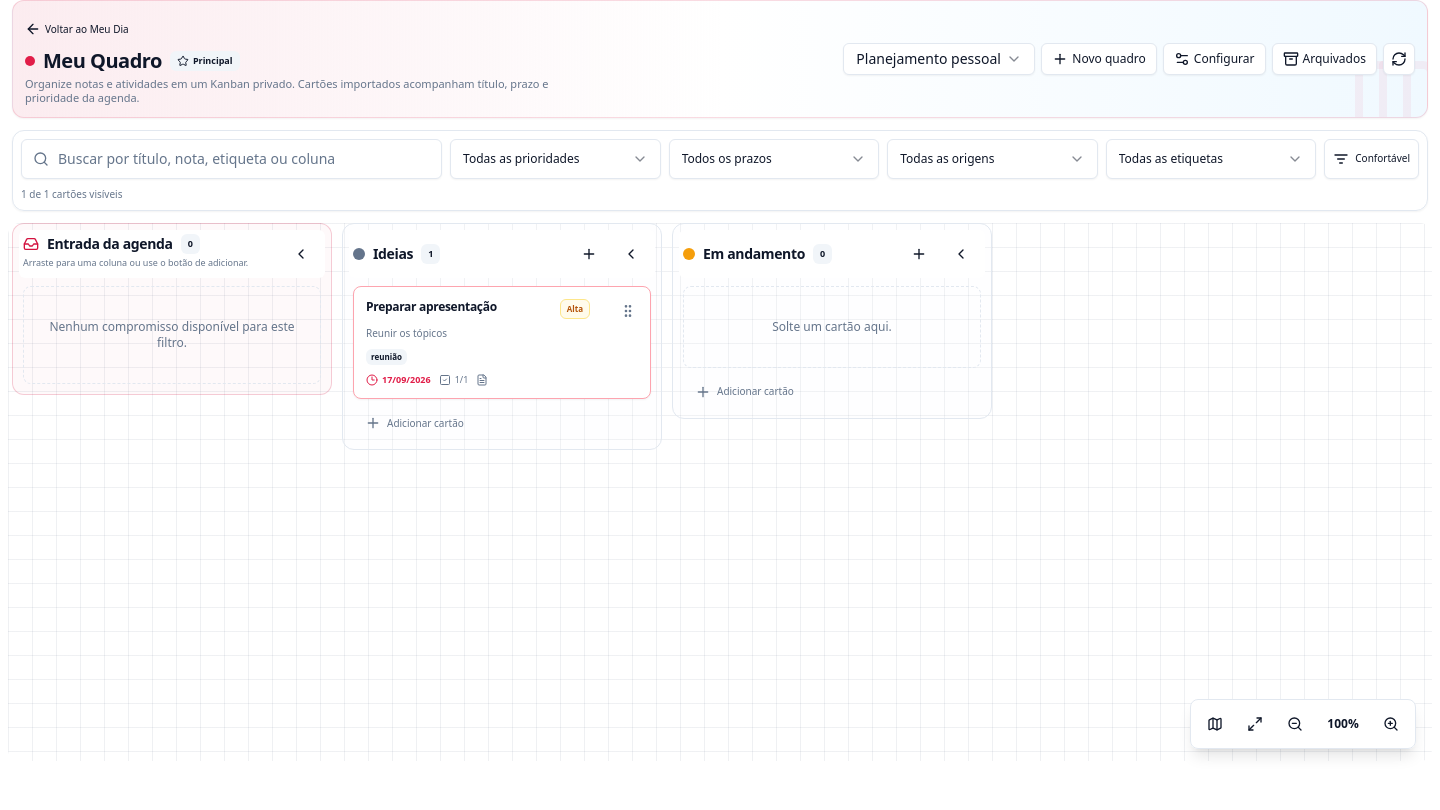
Test case: Meu Quadro › busca cartões e alterna a densidade sem perder o restante do quadro
The image size is (1440, 810).
Expected: the text "Reunir os tópicos" is shown, [366,326,447,340]
Step 1. Click the button "Confortável" → (1372, 158), box [1324,138,1419,178]
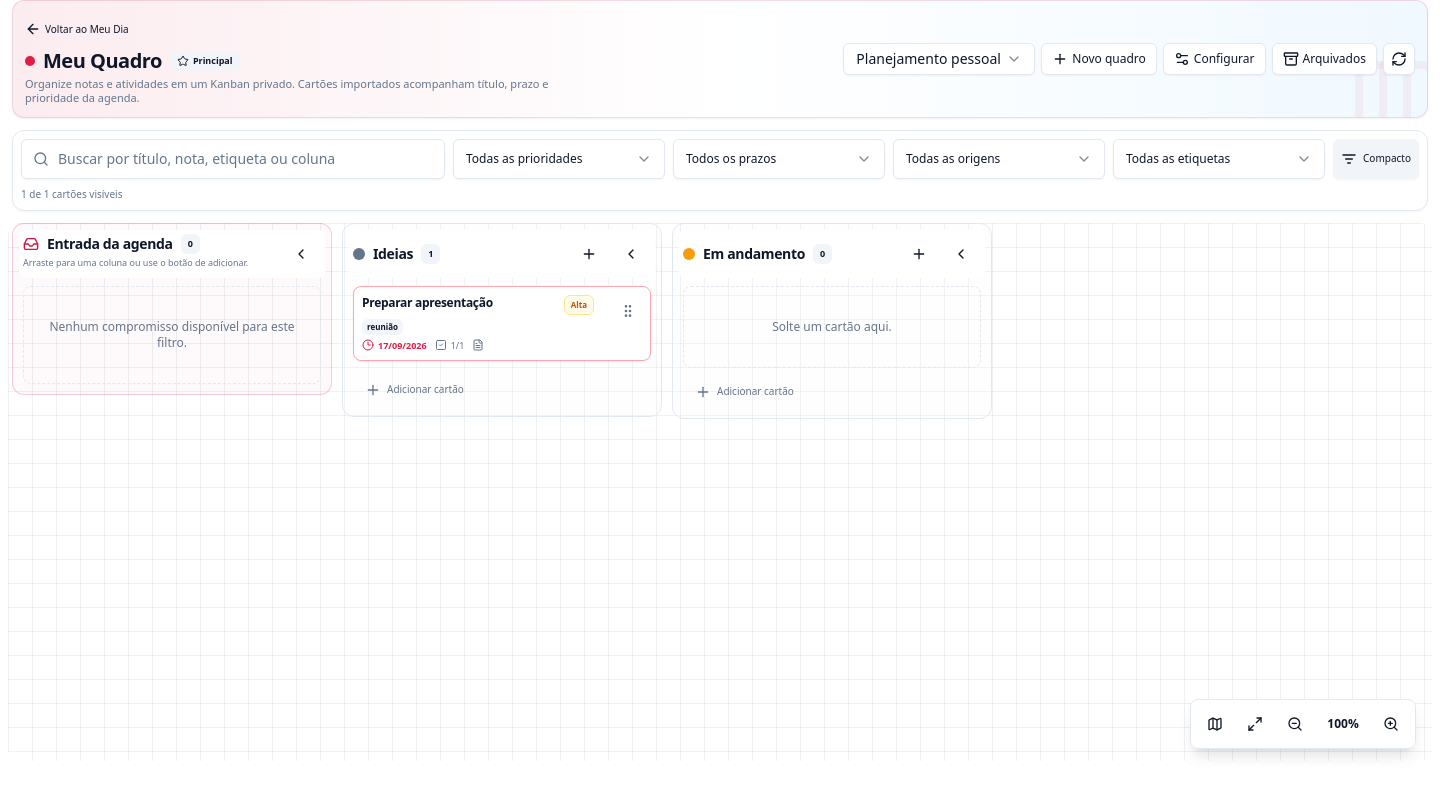
Now the text "Reunir os tópicos" is gone
Step 2. Type "não existe" into the field named "Buscar cartões no quadro" → (233, 158), box [21,138,445,178]
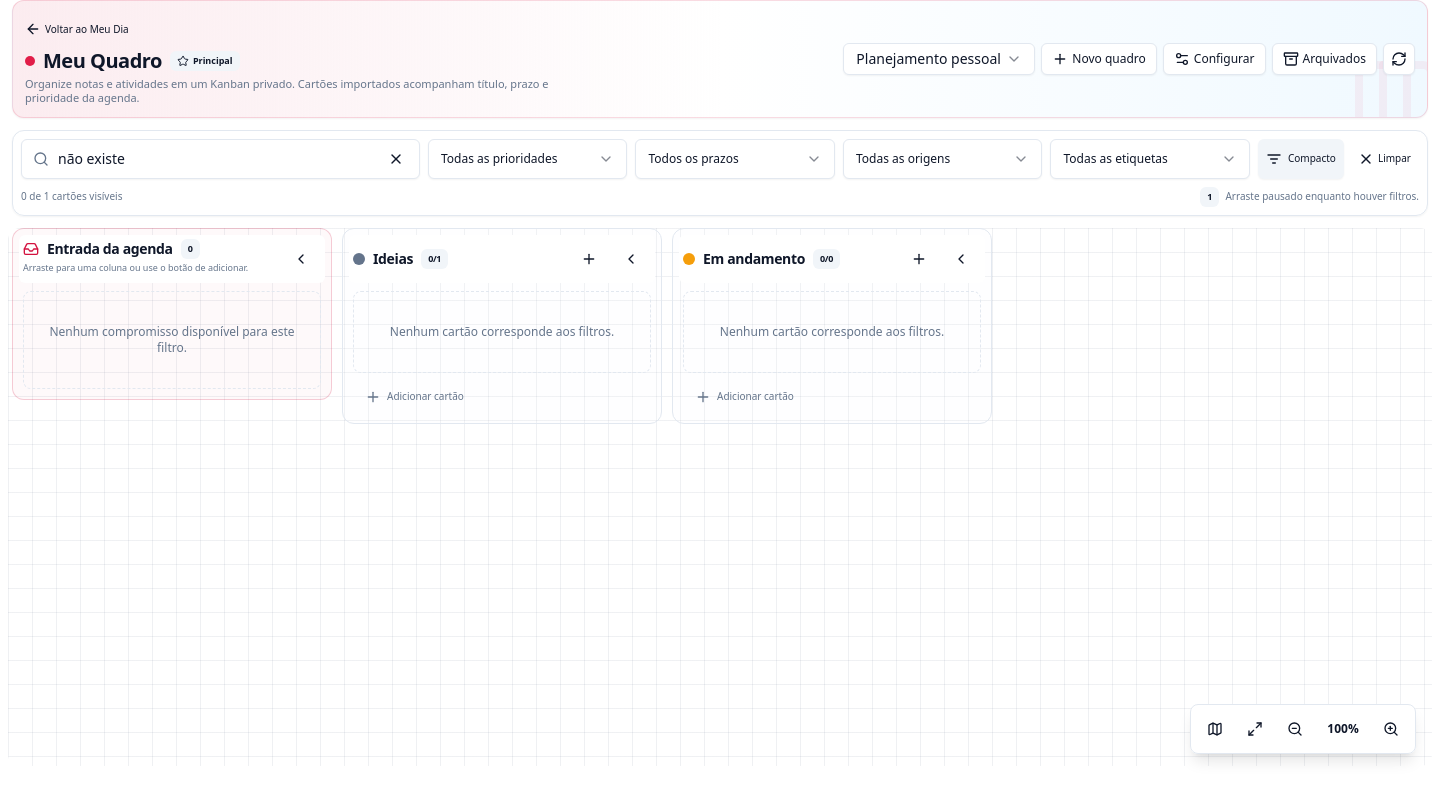
Now the button "Preparar apresentação" is gone
Now the text "0 de 1 cartões visíveis" is shown, box [21,189,122,204]
Now the text "Arraste pausado enquanto houver filtros." is shown, box [1225,189,1419,203]
Step 3. Click the button "Limpar" → (1384, 158), box [1350,138,1419,178]
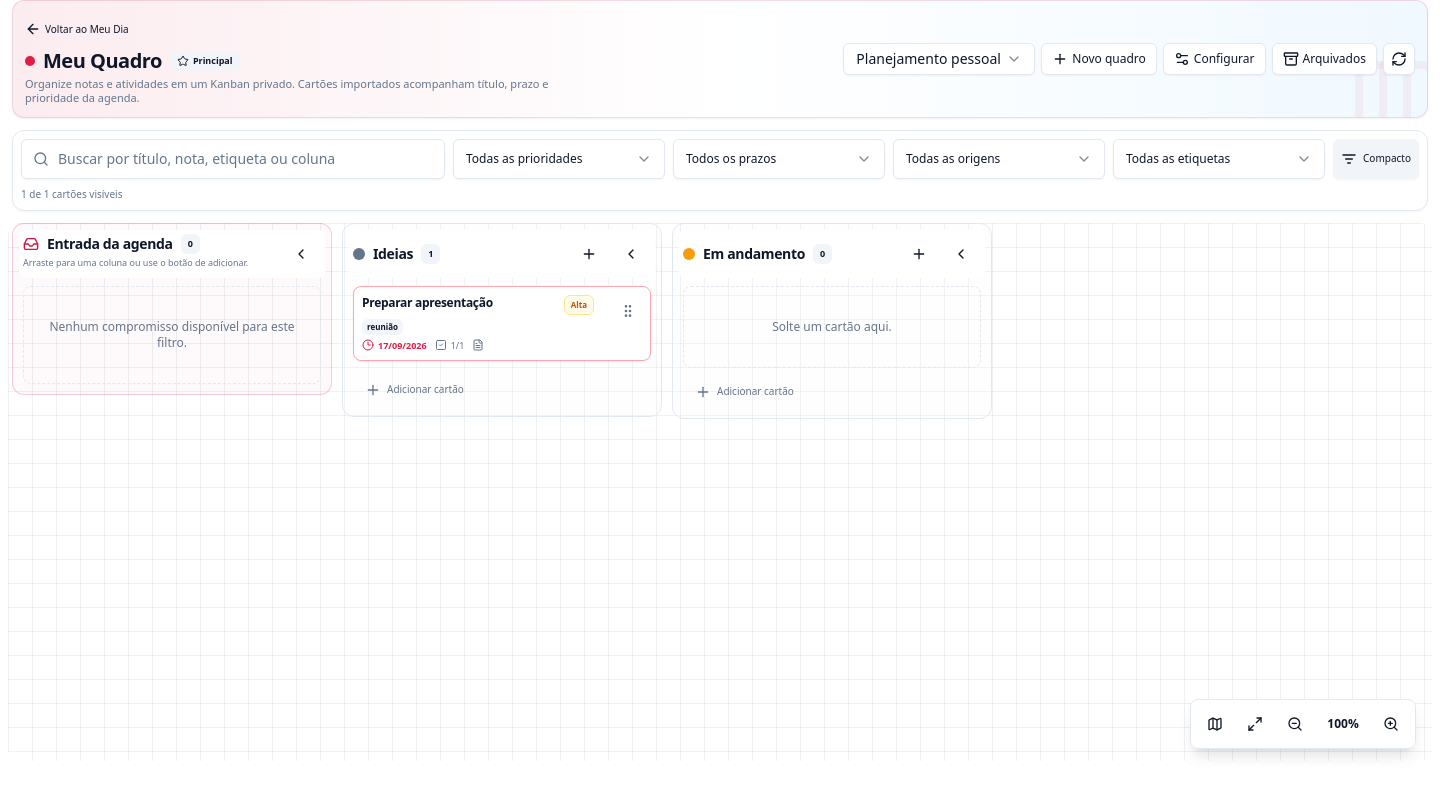
Now the heading "Preparar apresentação" is shown, box [362,294,493,310]
